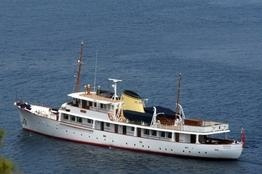otherboat: (13, 78, 246, 161)
